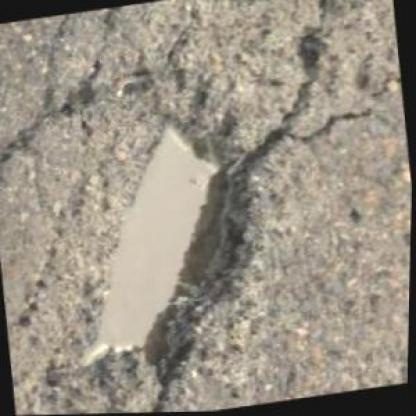pothole: (41, 94, 288, 412)
